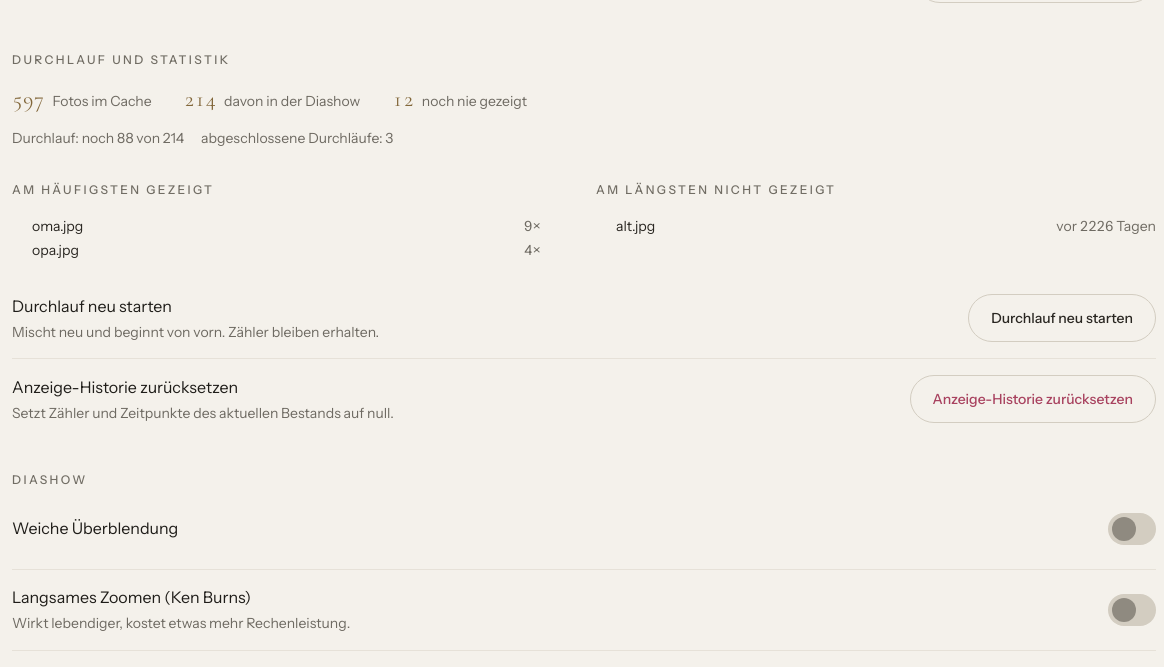
Test: ShowPane — Durchlauf und Statistik › meldet den Neustart neben seinem Knopf
(page scrolled)
Click the button "Durchlauf neu starten". click: click(1062, 318)
box: [968, 294, 1156, 342]
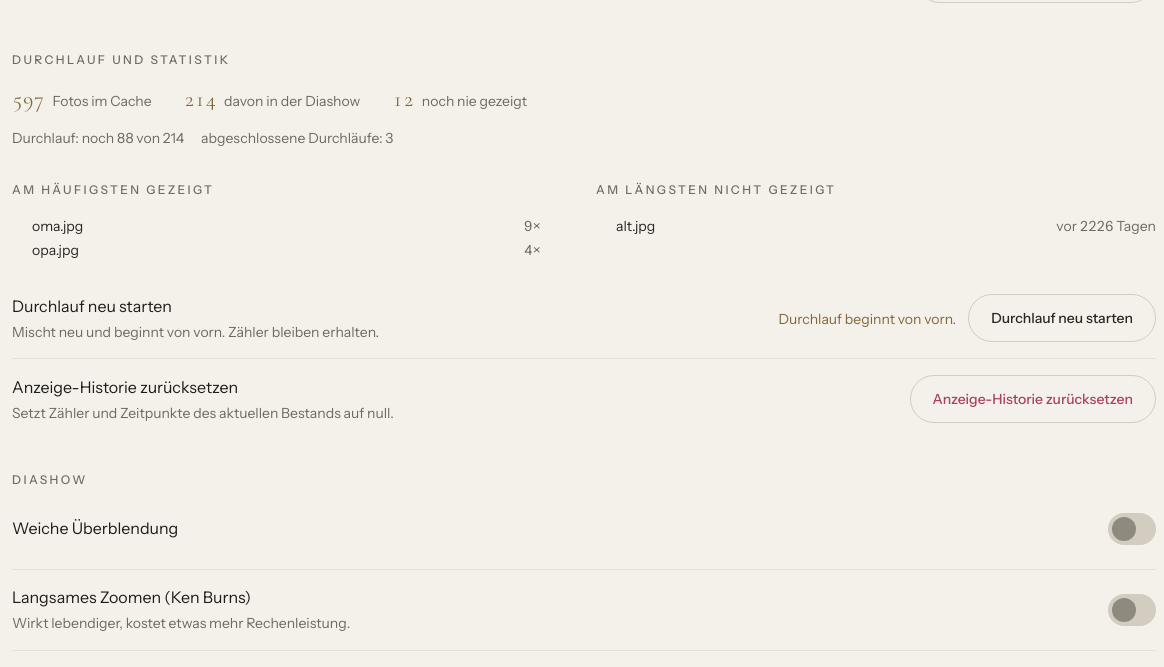
expect the message "Durchlauf beginnt von vorn." is shown: met, box [778, 310, 956, 328]
